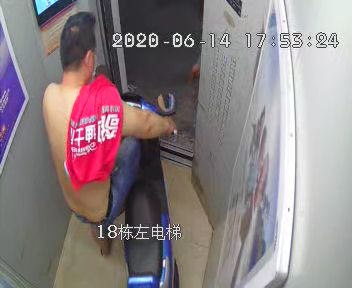Electric-bicycle: (95, 63, 176, 287)
